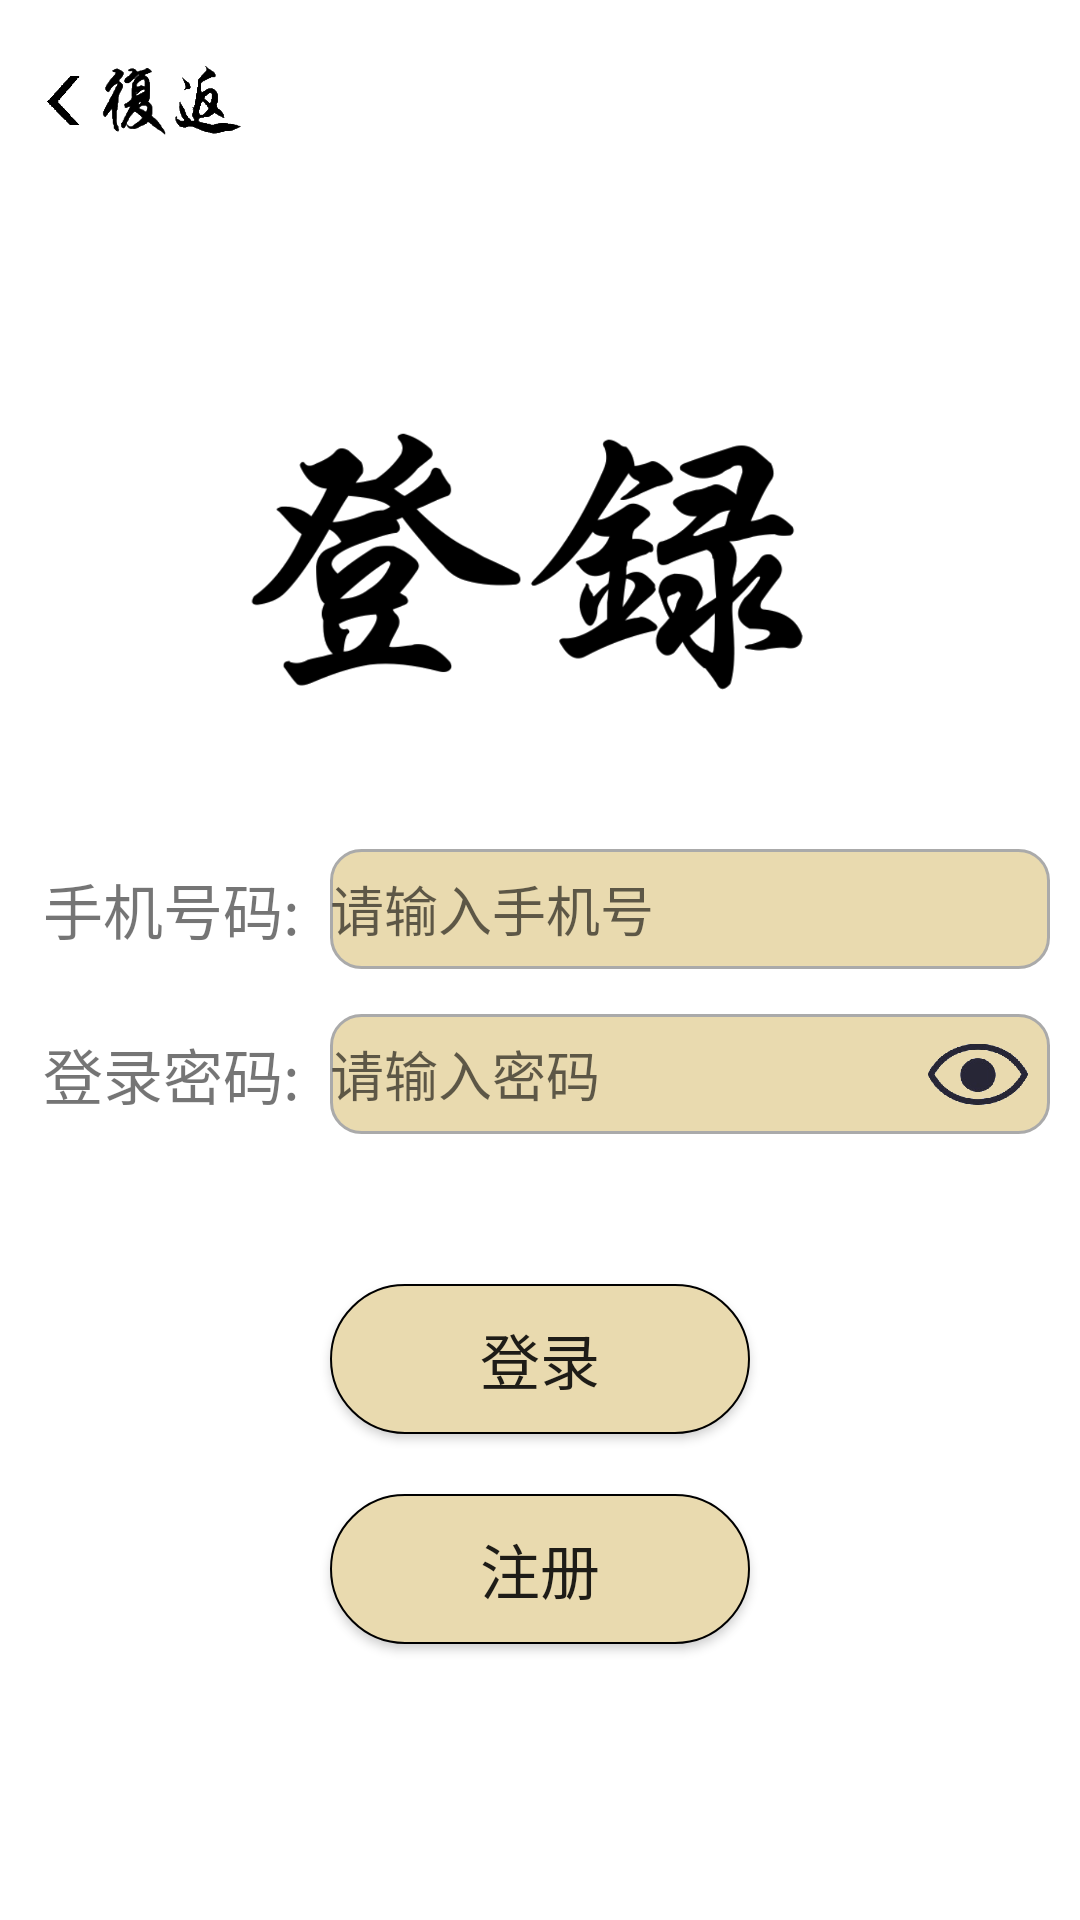

Named icons in this screenshot (1080 × 1920) and their centers, (x=x, y=y):
visible: (x=978, y=1074)
